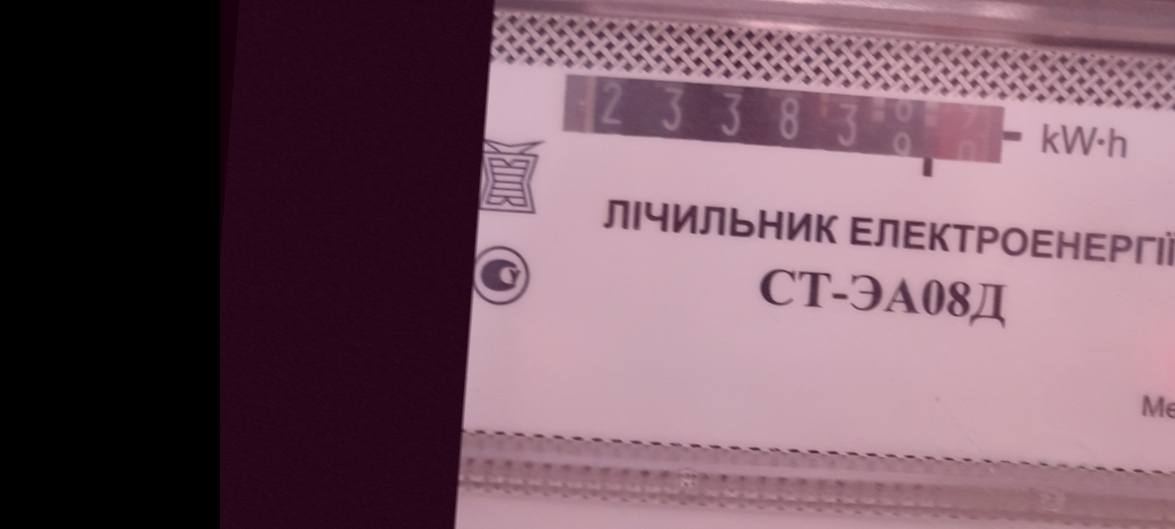0: (957, 138, 981, 165)
2: (601, 80, 628, 129)
3: (716, 89, 749, 140), (658, 83, 690, 134), (835, 101, 863, 148)
8: (776, 95, 806, 143), (894, 98, 918, 126)
9: (959, 101, 983, 133), (892, 129, 915, 160)
screen: (551, 63, 1029, 188)
